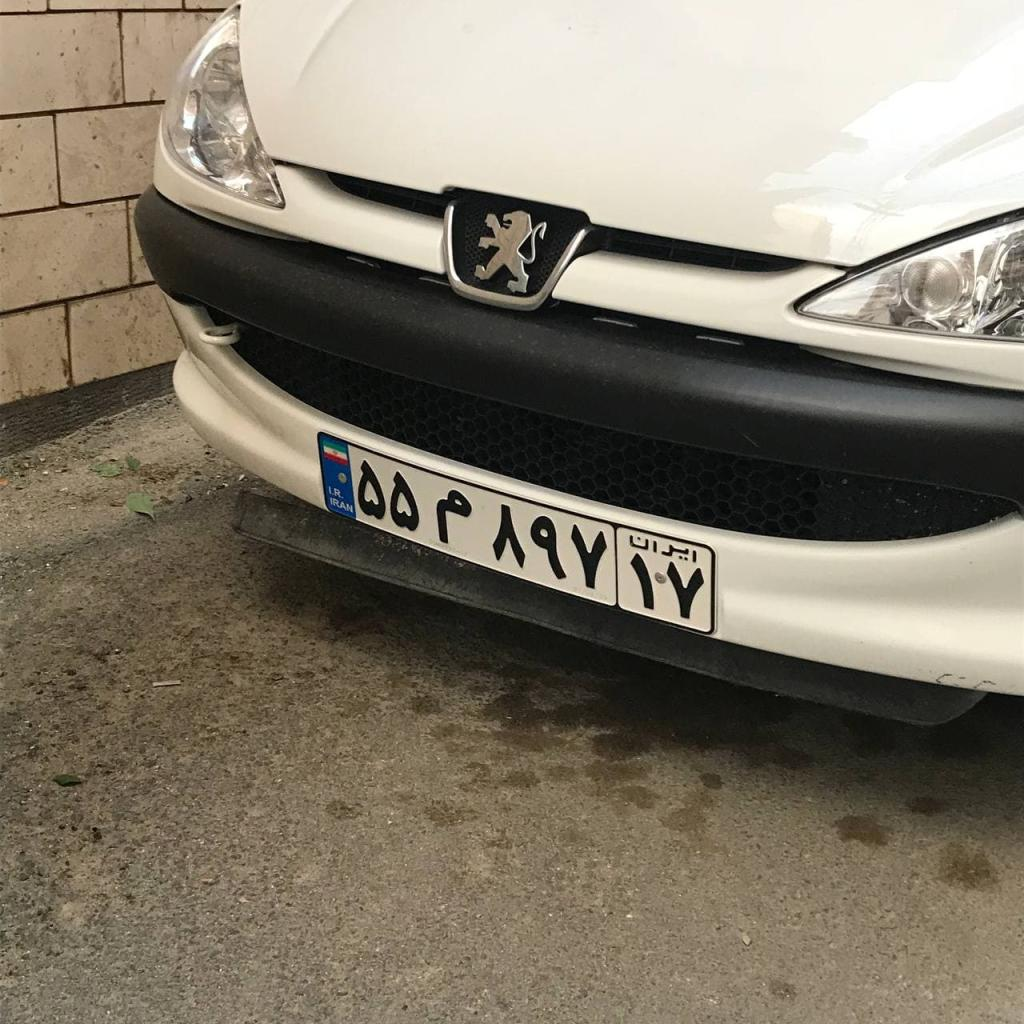Plates: (317, 432, 713, 638)
